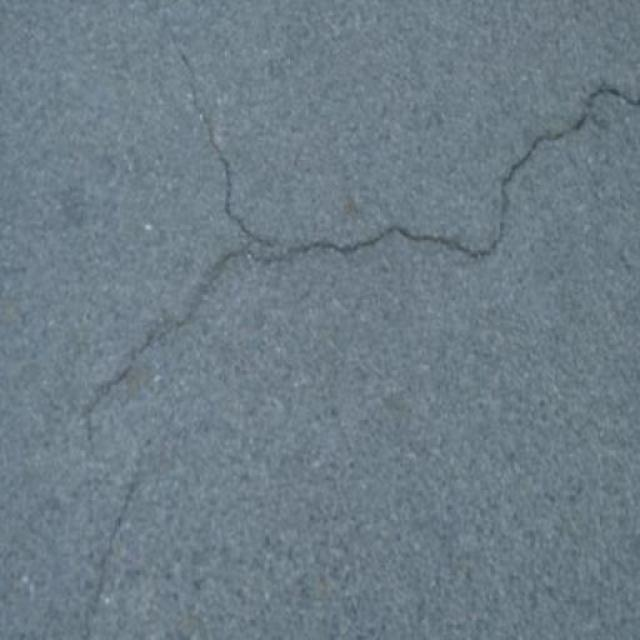Crack: (94, 59, 640, 418)
